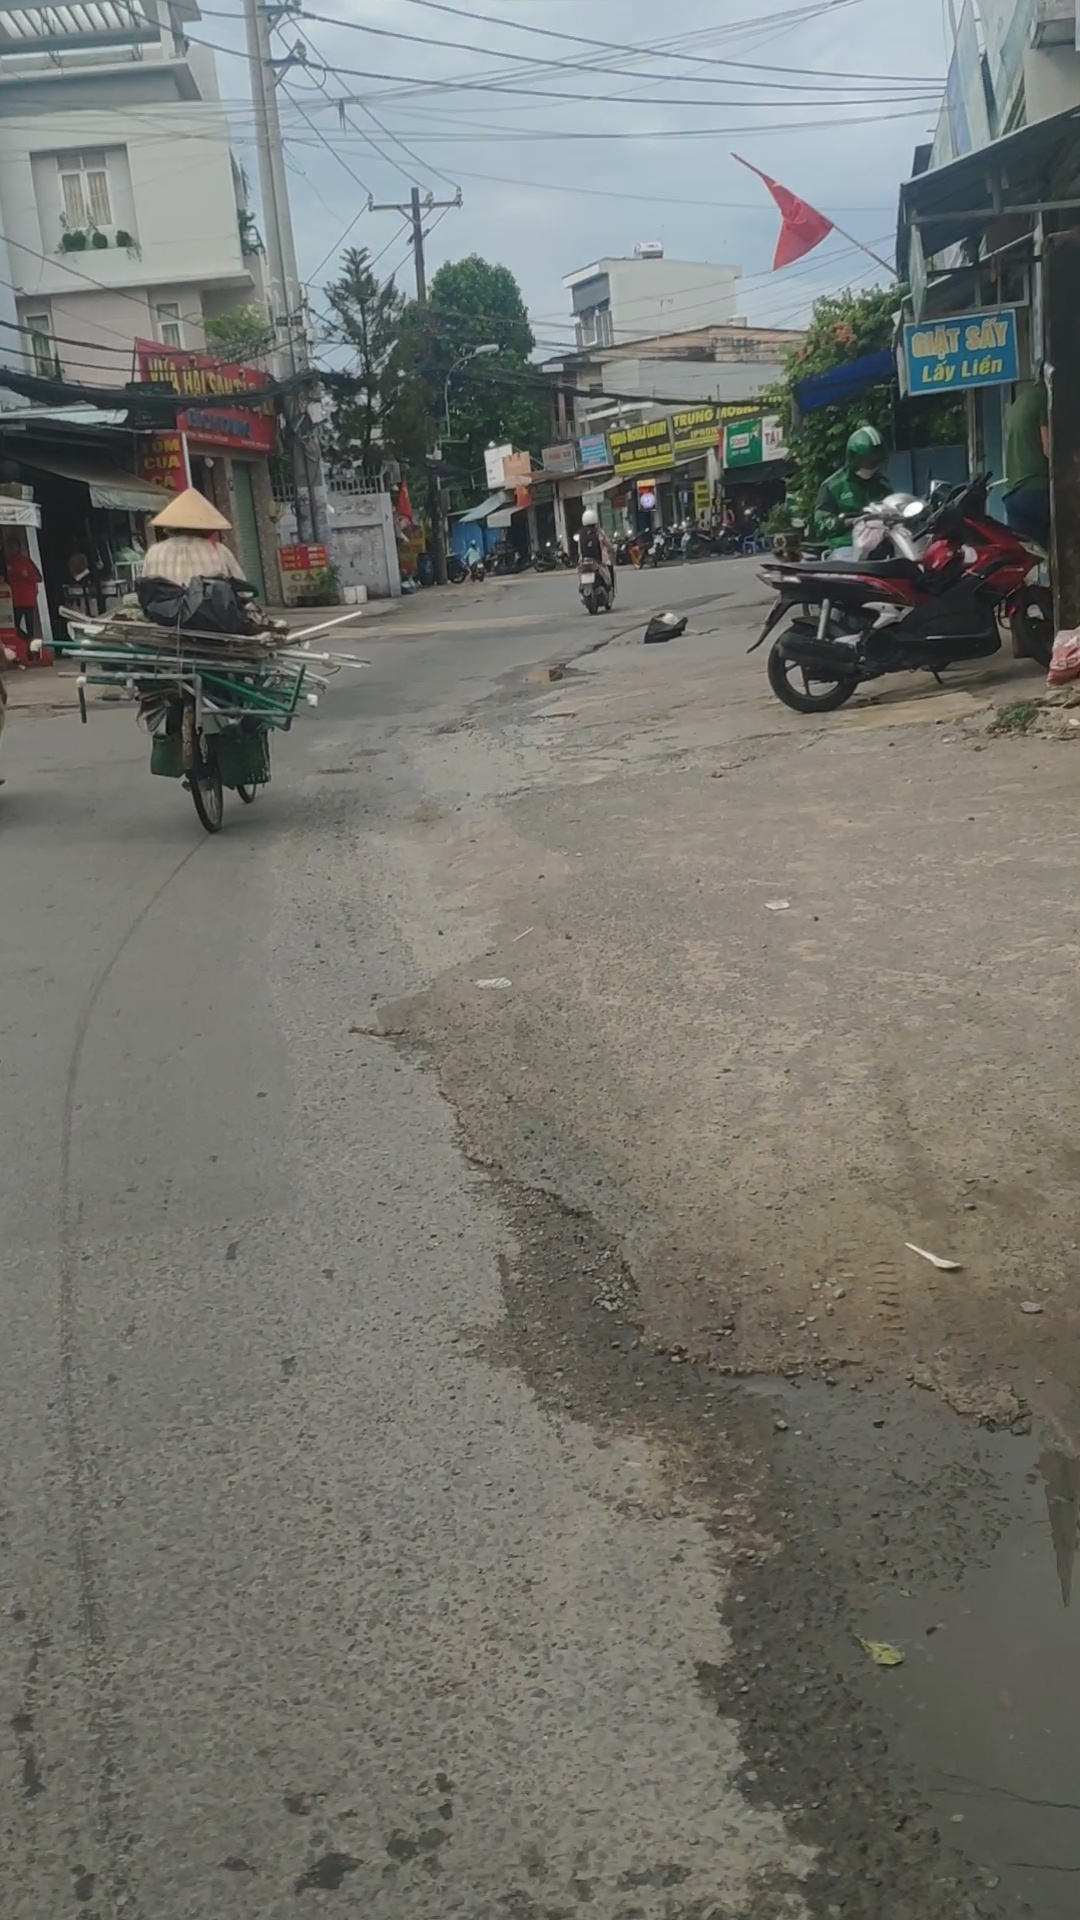hole: (756, 1418, 1080, 1904)
